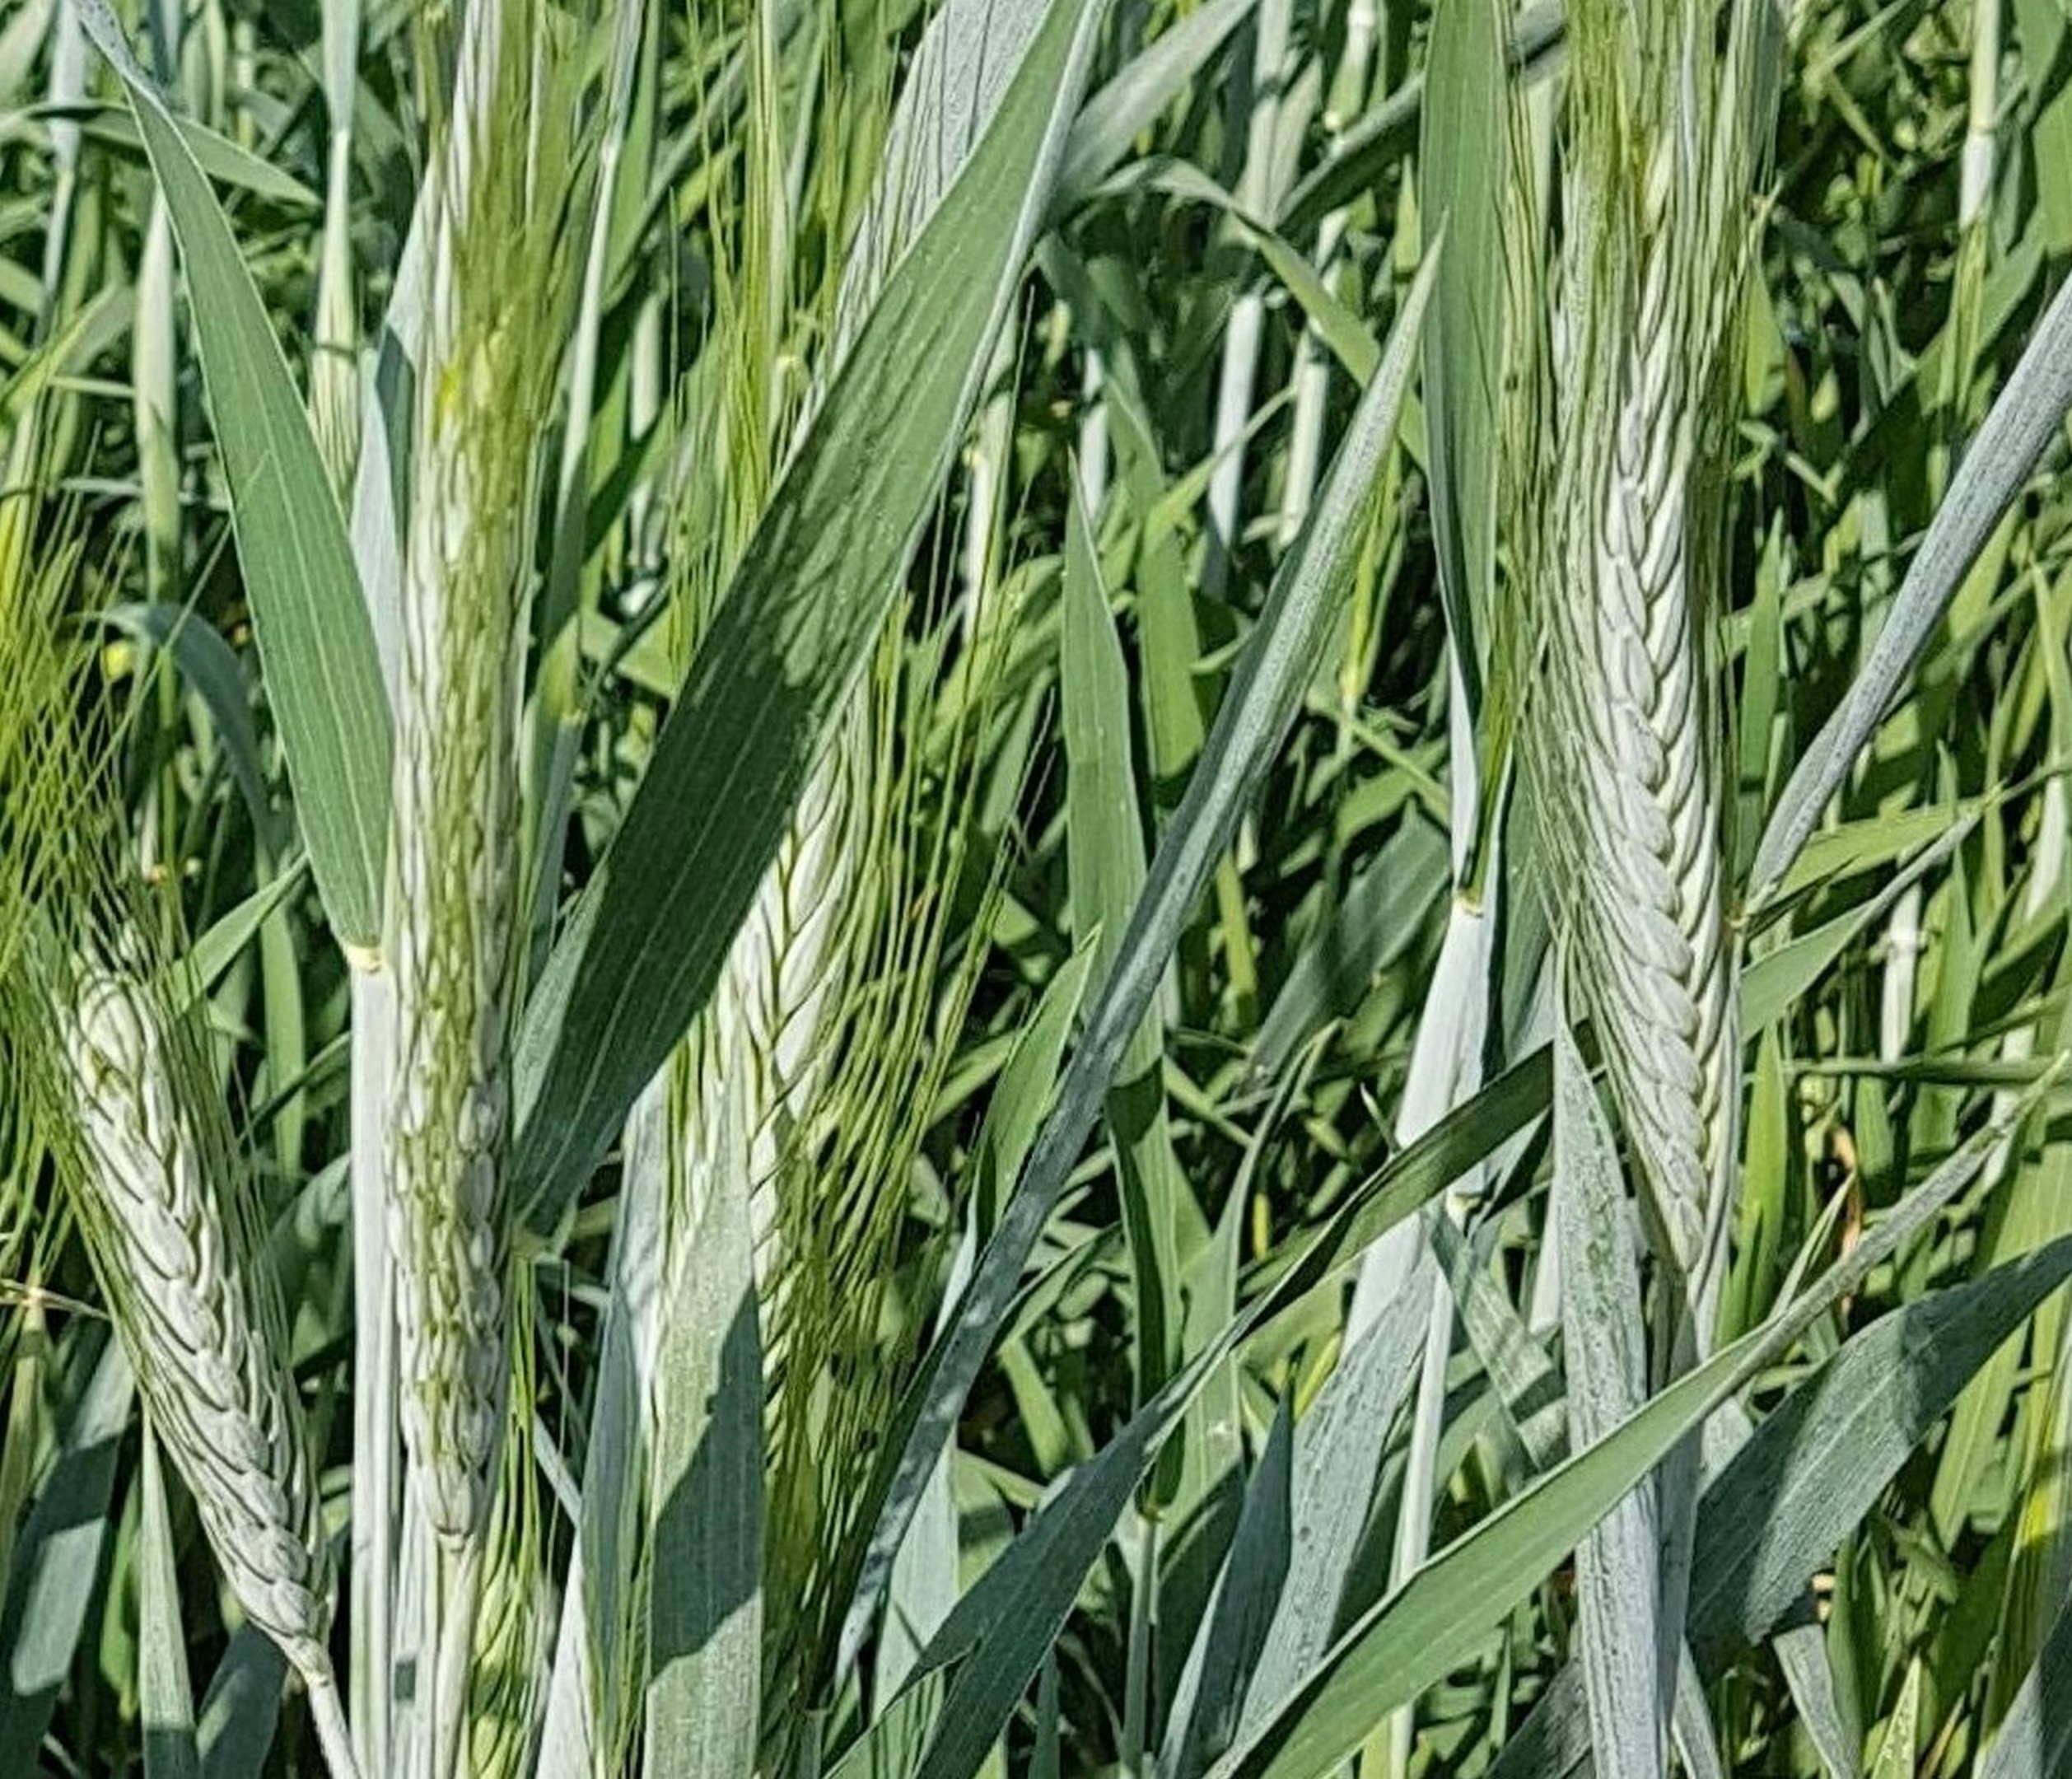Healthy Wheat: (1503, 204, 1751, 1279), (12, 930, 354, 1675)
